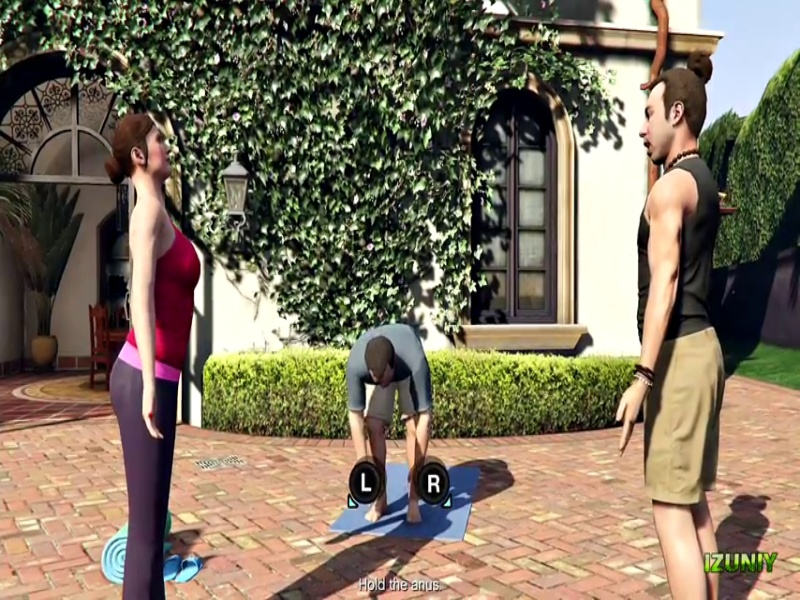licenseplate: (200, 97, 600, 115)
